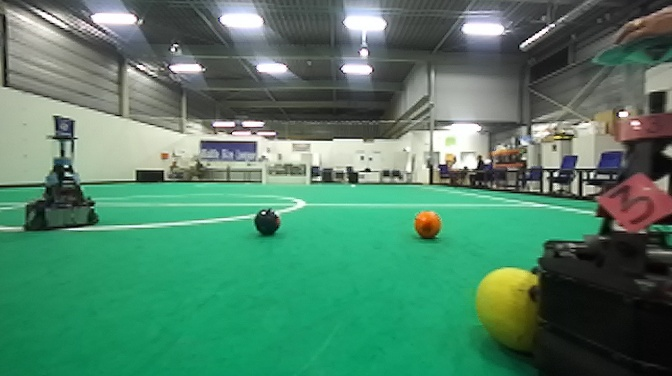ball: (468, 261, 541, 356), (409, 207, 445, 244), (251, 206, 284, 241)
goal: (261, 159, 309, 187)
goalpost: (260, 159, 267, 188), (305, 161, 311, 187)
human_part: (607, 1, 672, 44)
robot: (524, 39, 672, 376), (19, 111, 101, 236)
